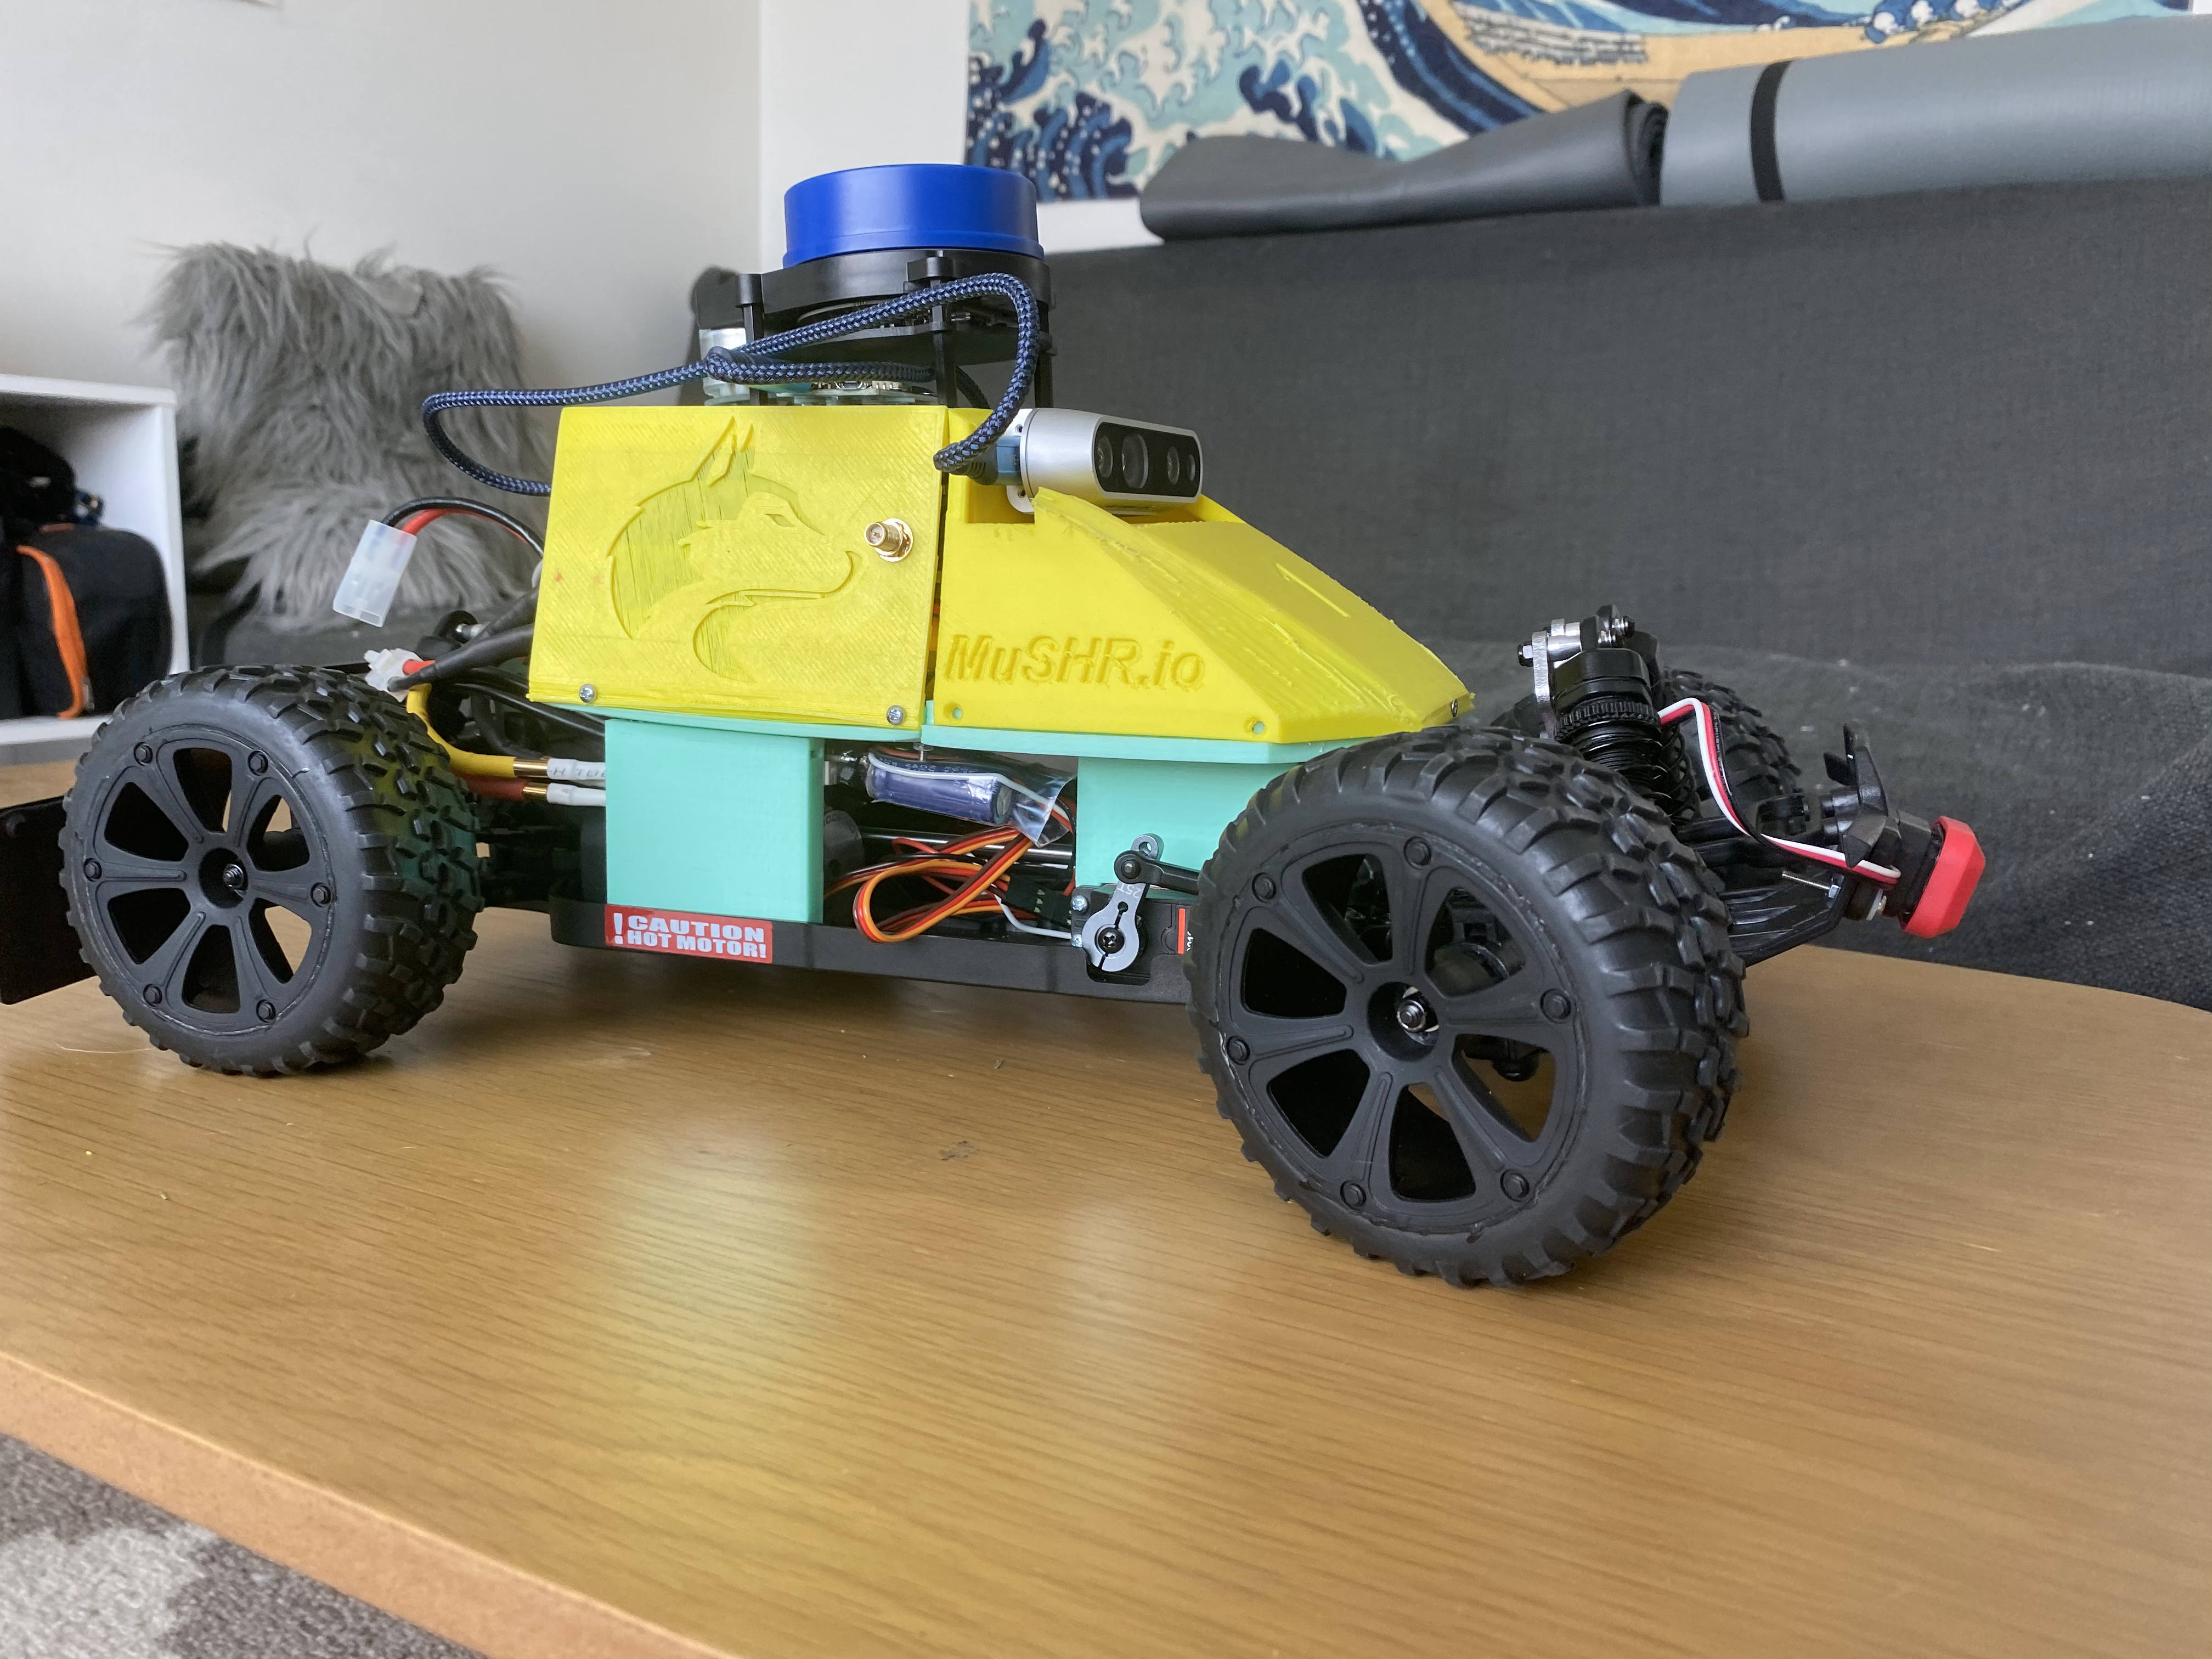mushr_car: (37, 160, 1987, 1309)
